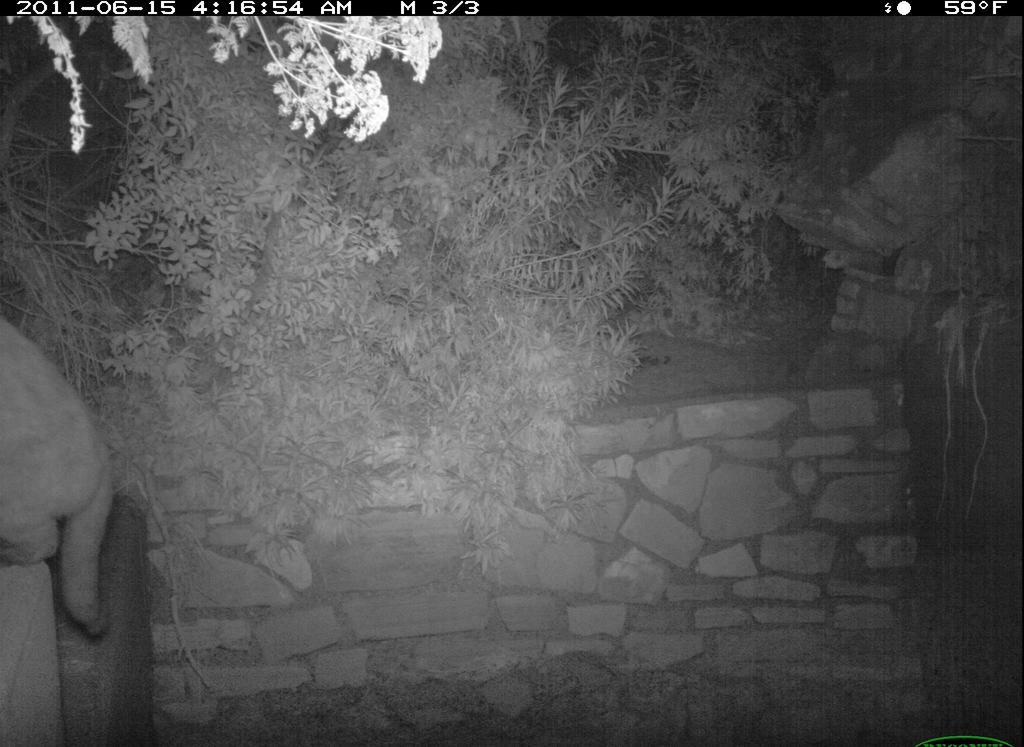cat: (1, 312, 141, 654)
